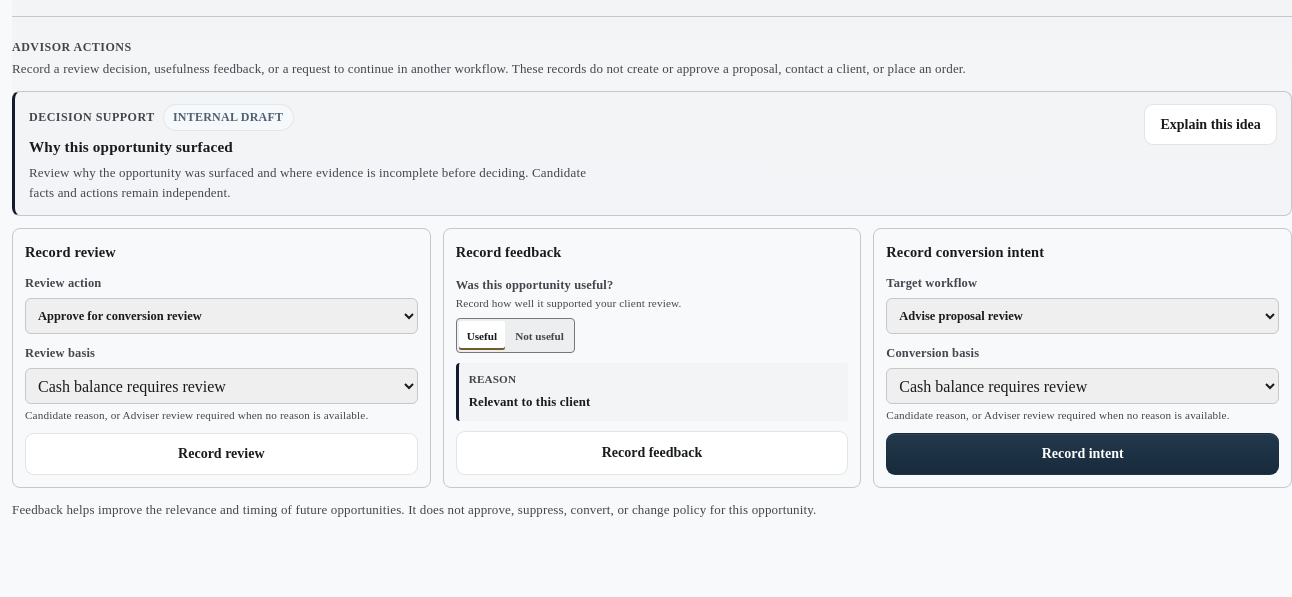
Test: IdeaCandidateActionPanel › shows persisted success only after source detail and queue refresh complete
expect the element named "Feedback usefulness" is shown: met, box [456,318,575,353]
expect the element with test id "idea-feedback-reason-summary" shows "Relevant to this client": met, box [469,395,590,409]
Step 1. Click the button "Record feedback" → (652, 453), box [456,431,848,475]
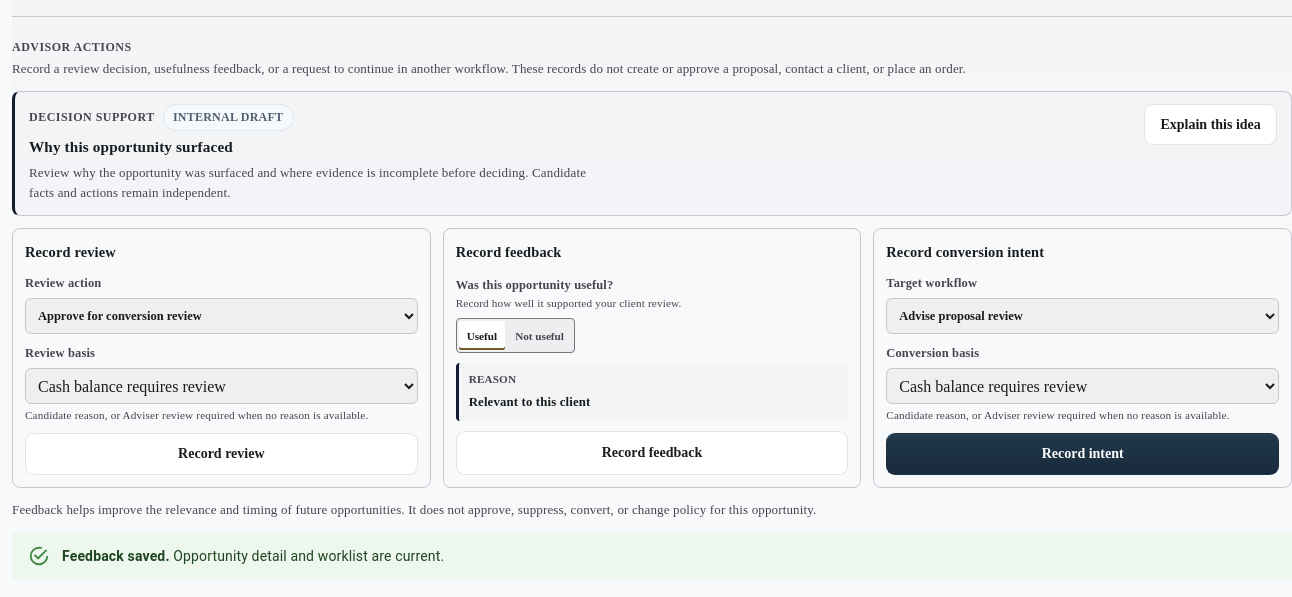
expect the message with test id "idea-action-feedback-status" reads "Feedback saved. Opportunity detail and worklist are current.": met, box [12,532,1291,580]
